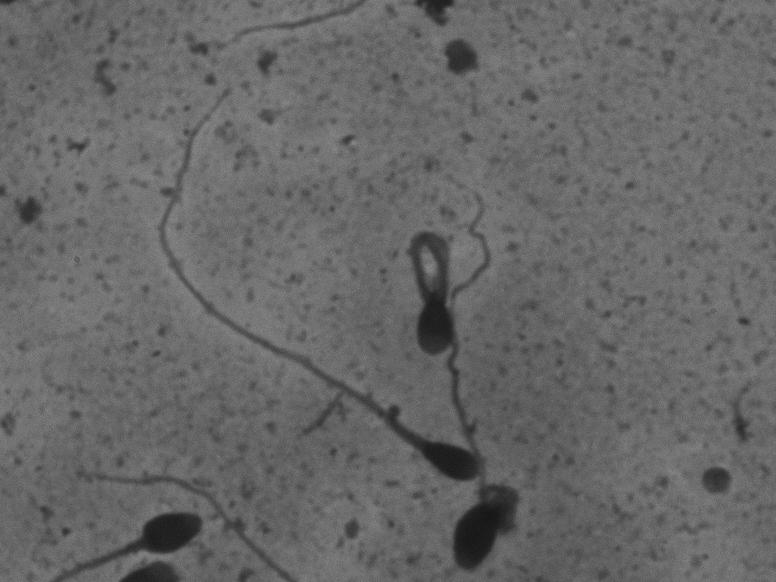Abnormal: (140, 63, 488, 487), (381, 208, 468, 363), (427, 481, 542, 571)
